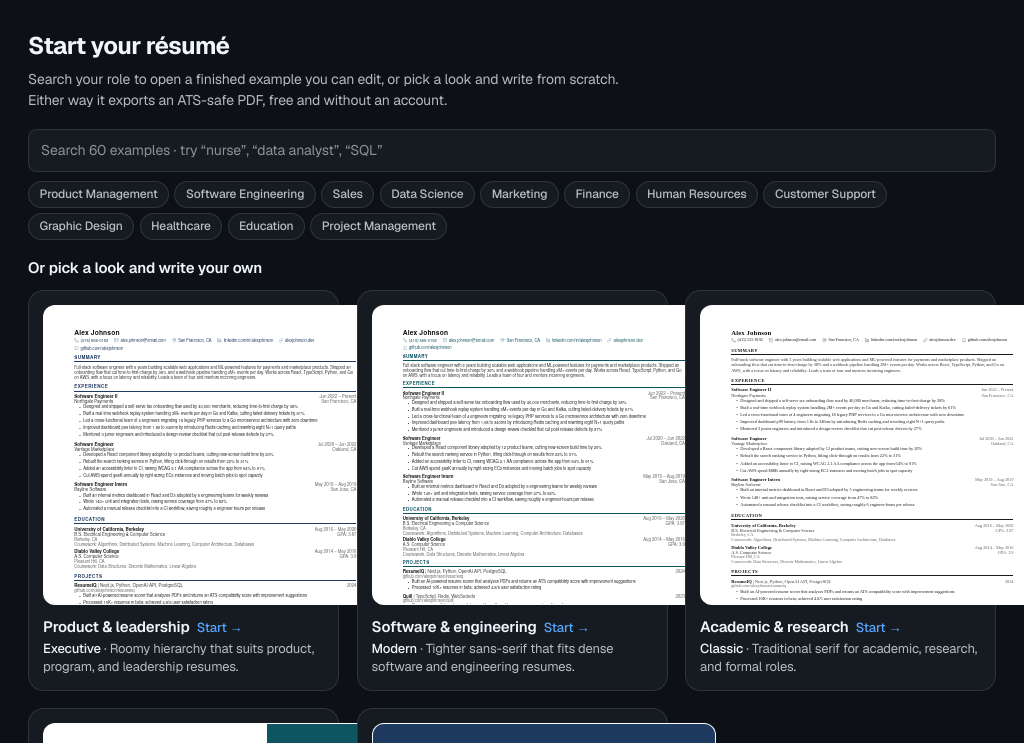
Test: the cold open can find your role › a category chip alone browses that category
The image size is (1024, 743).
Click the button "Healthcare": click(181, 226) x1=140 y1=213 x2=222 y2=240
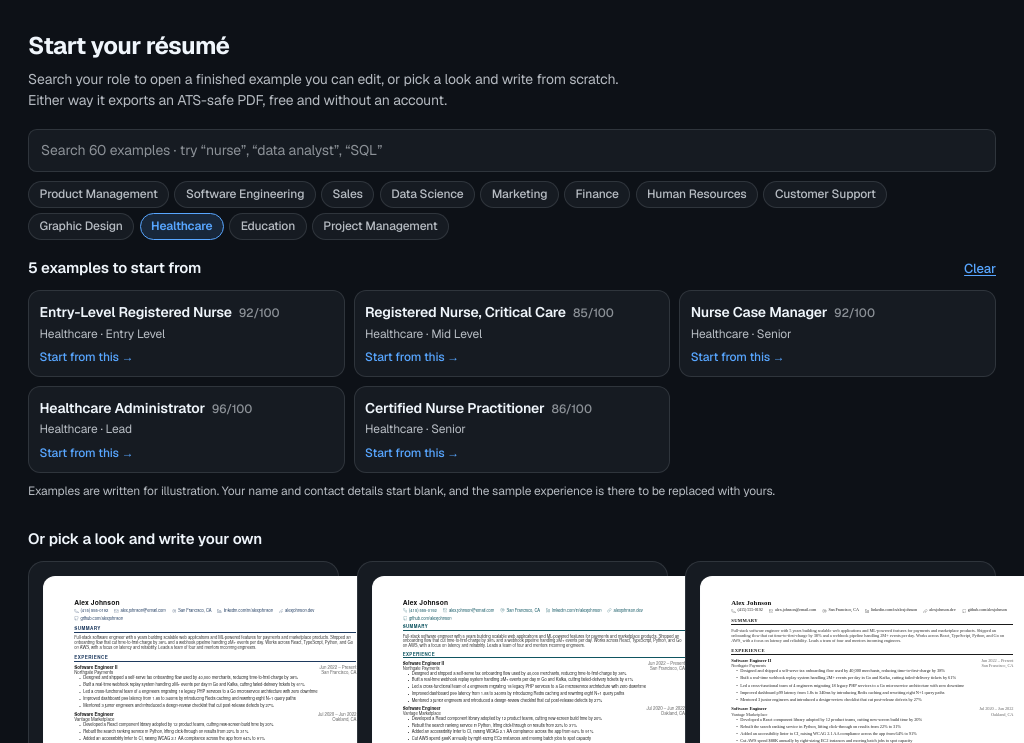
Check: the button with aria-label "Start from the Entry-Level Registered Nurse example" is shown, box x1=28 y1=290 x2=345 y2=377
